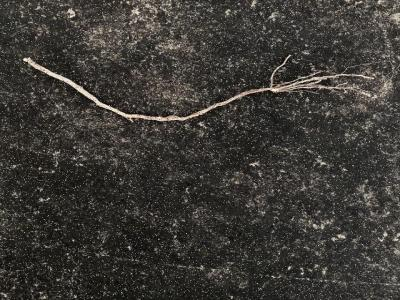Root: (23, 55, 372, 121)
